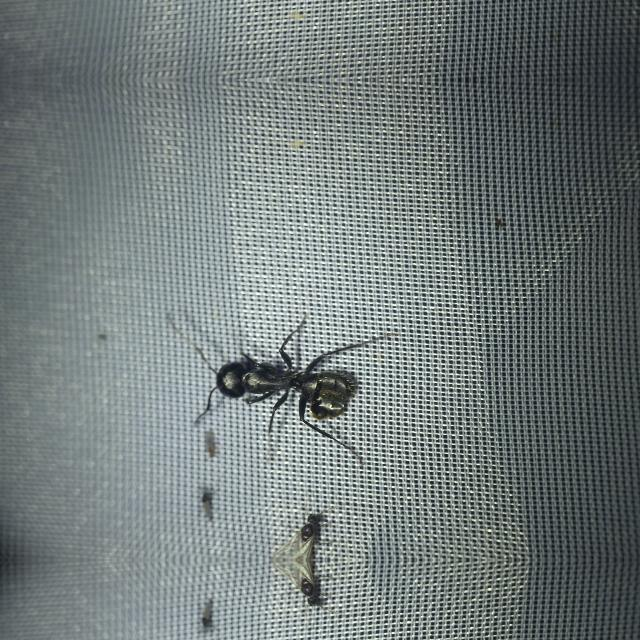Camponotus: (180, 328, 386, 447)
